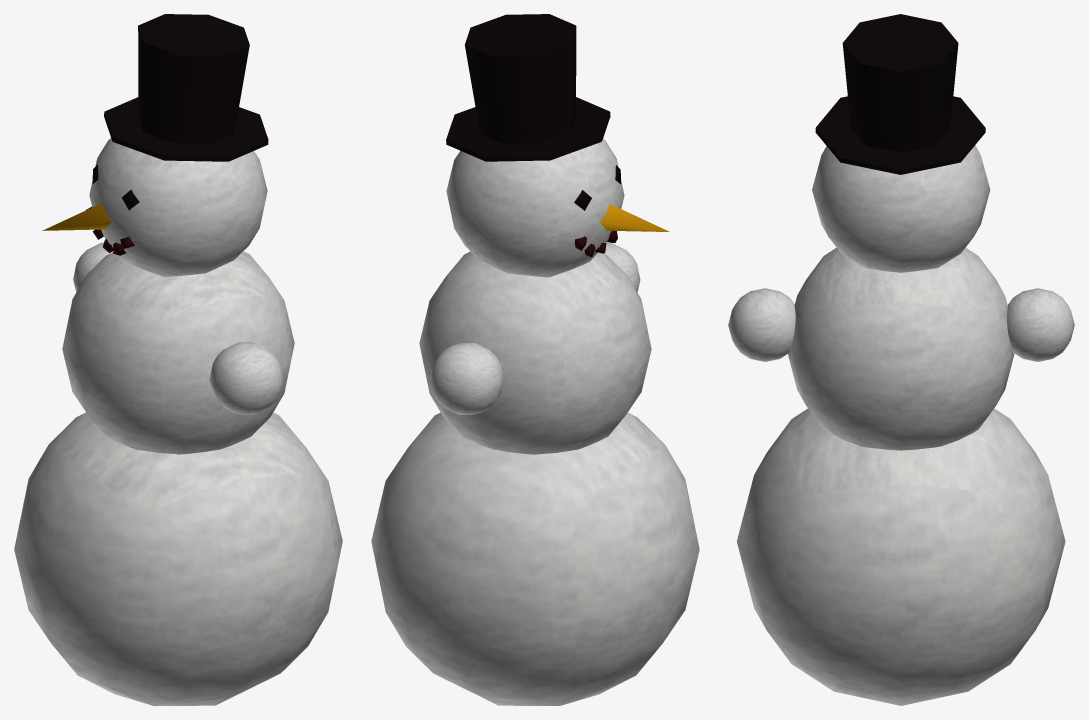
Rendered from snowman.fbx.
3 views of the same model, side by side, from view 1: azimuth 30°, elevation 25°; view 2: azimuth 150°, elevation 25°; view 3: azimuth 270°, elevation 25° (orthographic).
Parts seen in each view (by area): view 1: Snowball; view 2: Snowball; view 3: Snowball.
Part boxes in pixels (x1,y1,x2,y2): Snowball: (14,14,342,705); Snowball: (371,14,699,705); Snowball: (728,14,1074,705).
Size of the model in its own units: 2.63 by 5.83 by 2.78.
